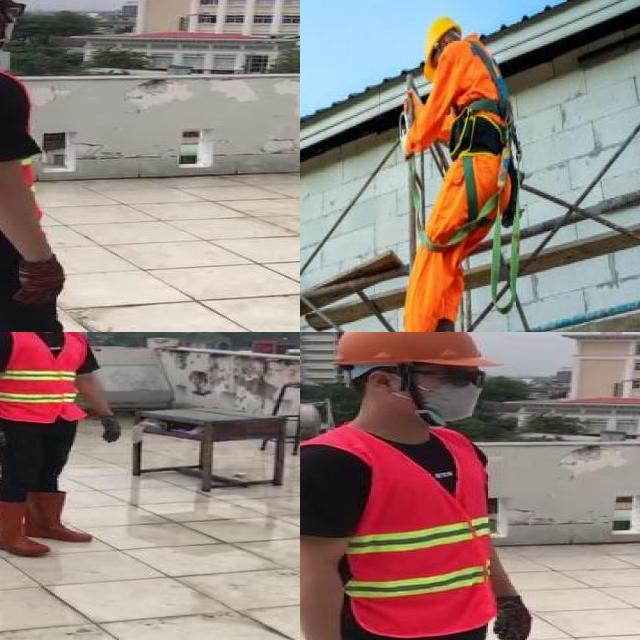Harness: (472, 42, 522, 314)
boots: (23, 490, 94, 542), (0, 500, 46, 556)
face_mask: (405, 365, 495, 422)
glasses: (429, 366, 494, 393)
hand_glove: (14, 261, 67, 306), (495, 599, 532, 640), (98, 417, 126, 446), (0, 428, 8, 456)
head_helmet: (0, 0, 124, 332), (325, 332, 508, 374)
person: (300, 332, 548, 640), (0, 332, 124, 559)
vest: (339, 427, 493, 635), (0, 332, 88, 424), (0, 54, 38, 252)
